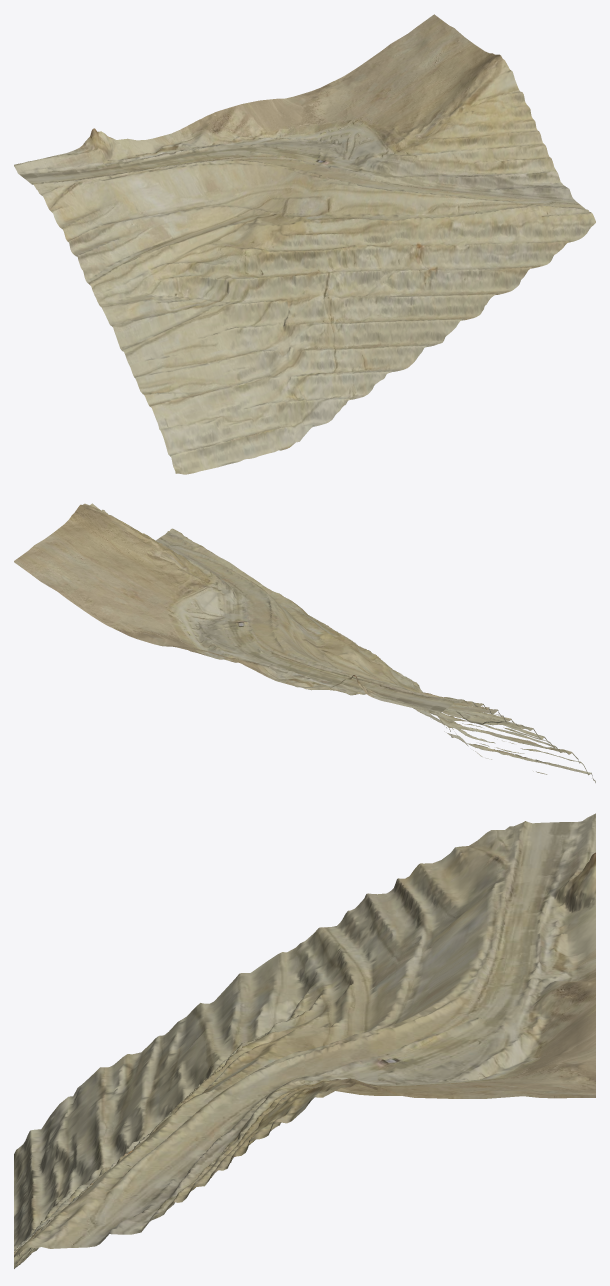
3 views of the same model, one above another, from view 1: azimuth 30°, elevation 25°; view 2: azimuth 150°, elevation 25°; view 3: azimuth 270°, elevation 25° (orthographic). The views are drawn at different scales.
Visible parts, largest first — view 1: l2-2-3; view 2: l2-2-3; view 3: l2-2-3.
Part boxes in pixels (x1,y1,x2,y2): l2-2-3: [14, 14, 595, 474]; l2-2-3: [14, 503, 595, 782]; l2-2-3: [14, 813, 595, 1268].
Bounding box in the file's own units: 768 × 437 × 512.
Materials: 1 (1 with a texture image).
